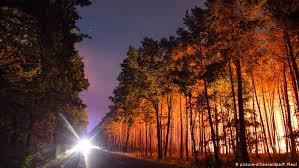fire: (251, 95, 290, 154)
